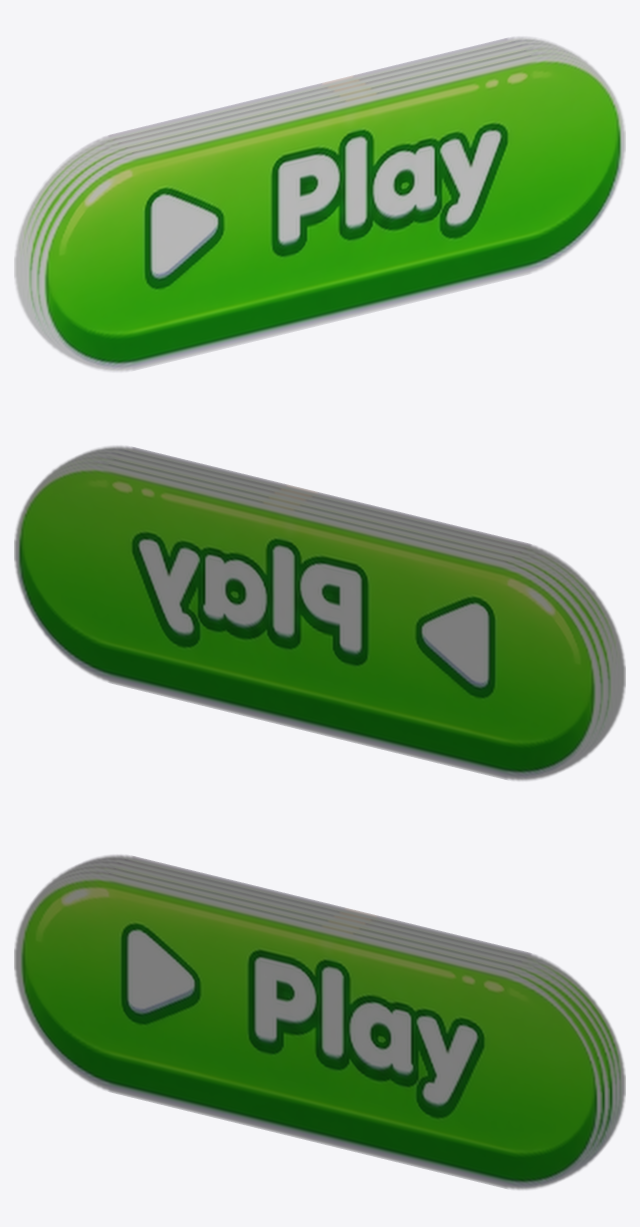
File: home_play_3d.glb
3 views of the same model, one above another, from view 1: azimuth 30°, elevation 25°; view 2: azimuth 150°, elevation 25°; view 3: azimuth 330°, elevation 25° (orthographic).
Parts seen in each view (by area): view 1: Root3DMesh; view 2: Root3DMesh; view 3: Root3DMesh.
Part boxes in pixels (x1=…): Root3DMesh: x1=14, y1=37, x2=625, y2=371; Root3DMesh: x1=14, y1=446, x2=625, y2=780; Root3DMesh: x1=14, y1=855, x2=625, y2=1189.
Size of the model in its own units: 2.2 by 0.7833 by 0.15.
Materials: 1 (1 with a texture image).
